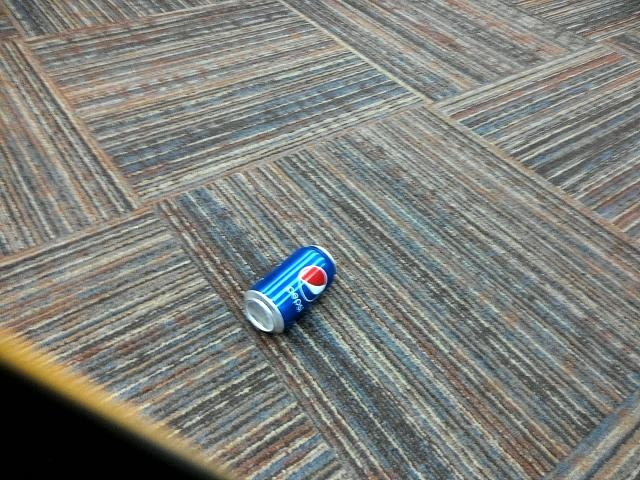can: (242, 231, 340, 344)
